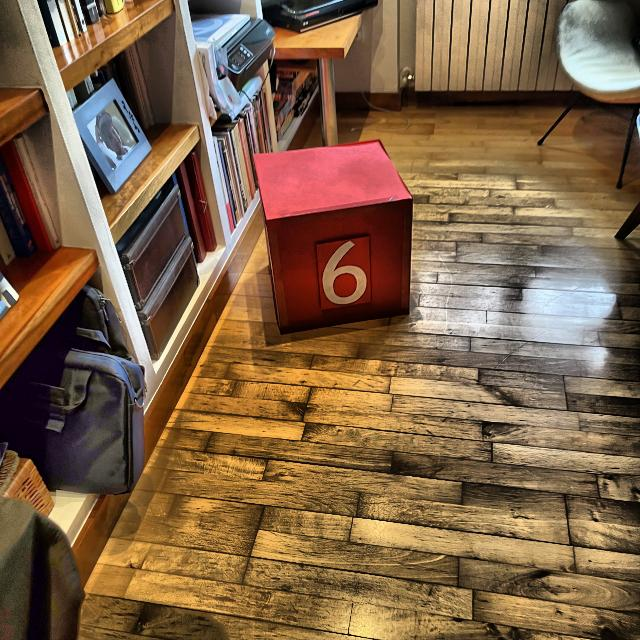red box: (255, 142, 417, 336)
six: (324, 238, 368, 305)
